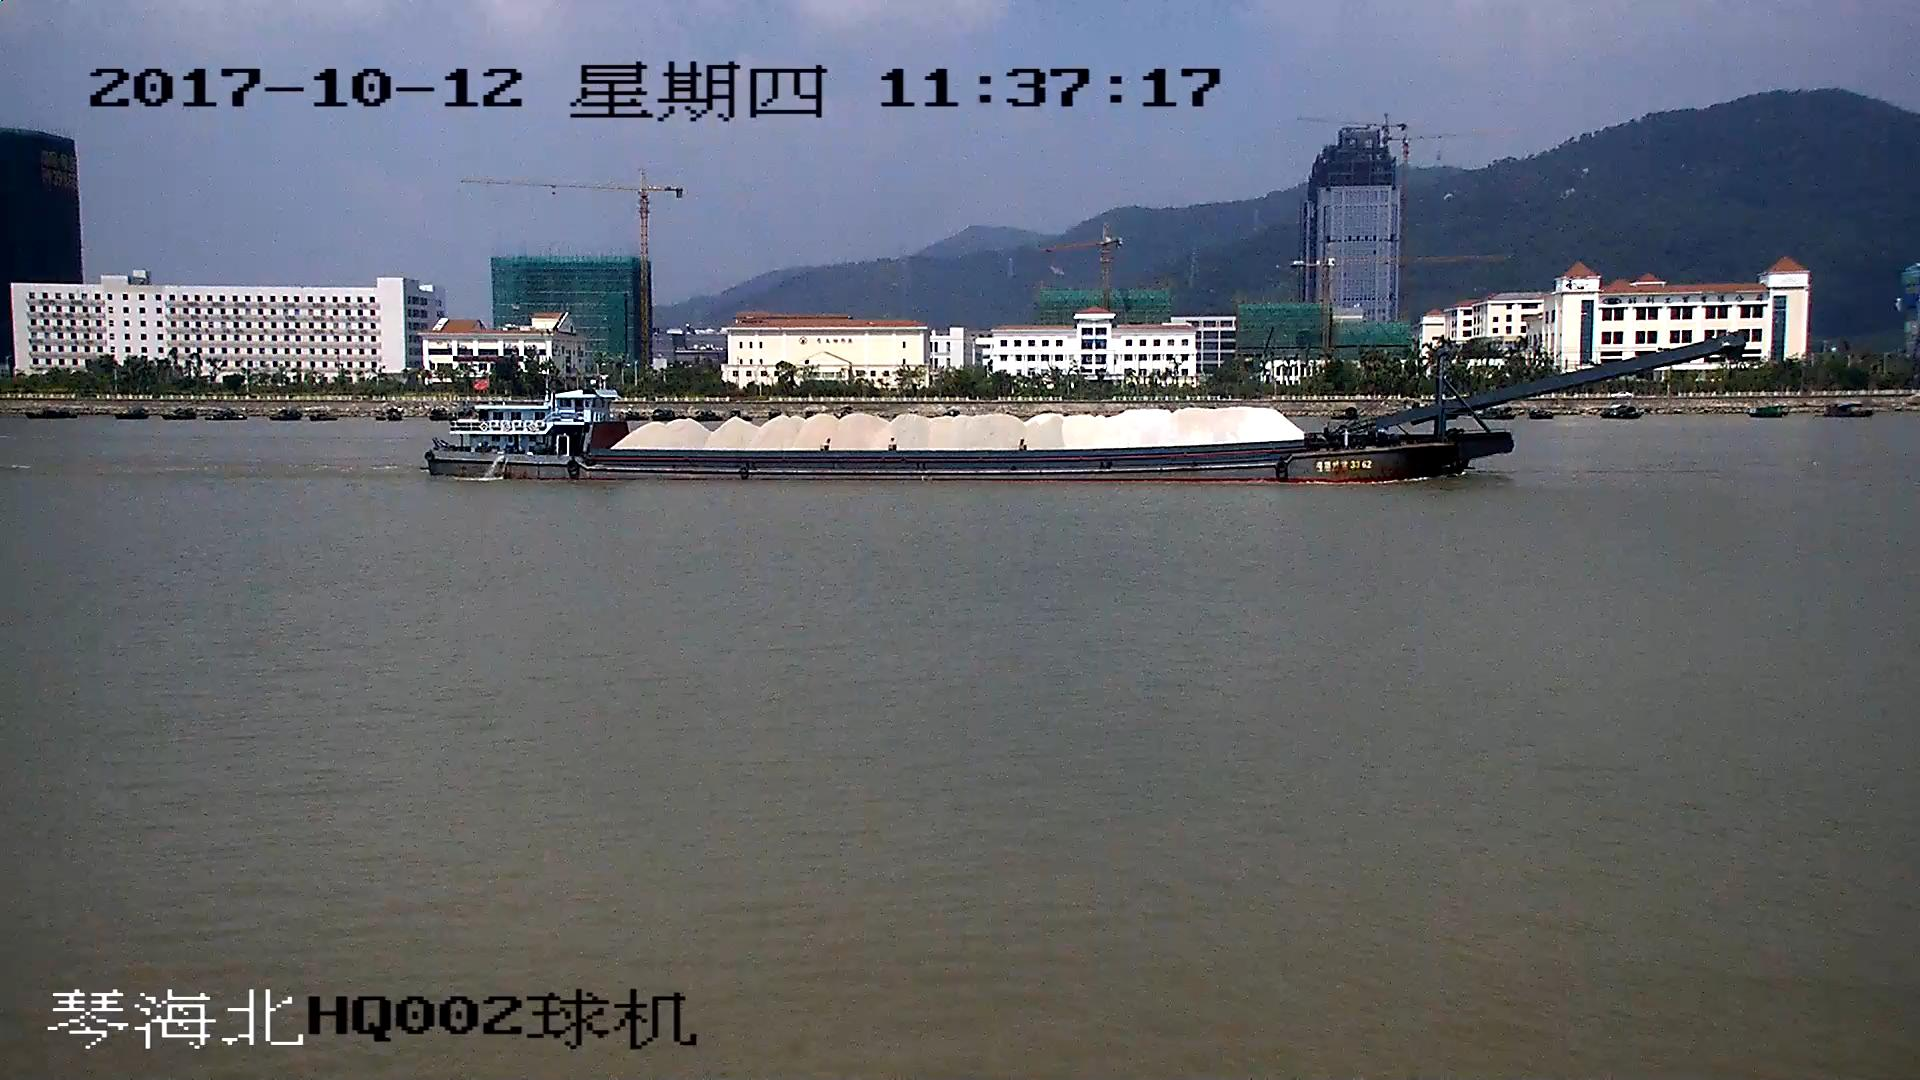ore carrier: (425, 337, 1725, 483)
